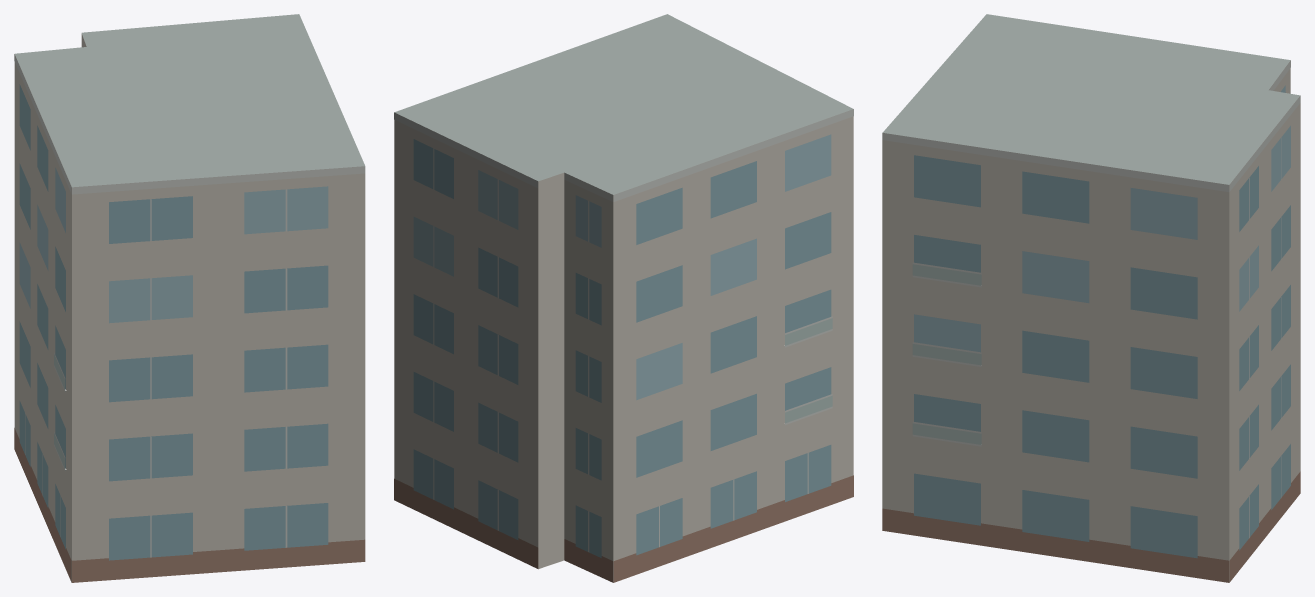
Rendered from survey-upis-32932404.glb.
3 views of the same model, side by side, from view 1: azimuth 30°, elevation 25°; view 2: azimuth 150°, elevation 25°; view 3: azimuth 270°, elevation 25° (orthographic). The views are drawn at different scales.
Parts seen in each view (by area): view 1: survey-upis-32932404.tmp; view 2: survey-upis-32932404.tmp; view 3: survey-upis-32932404.tmp.
Part boxes in pixels (x1=…): survey-upis-32932404.tmp: x1=14, y1=14, x2=365, y2=582; survey-upis-32932404.tmp: x1=394, y1=14, x2=853, y2=582; survey-upis-32932404.tmp: x1=882, y1=14, x2=1300, y2=582.
Size of the model in its own units: 12.17 by 13.2 by 12.58.
